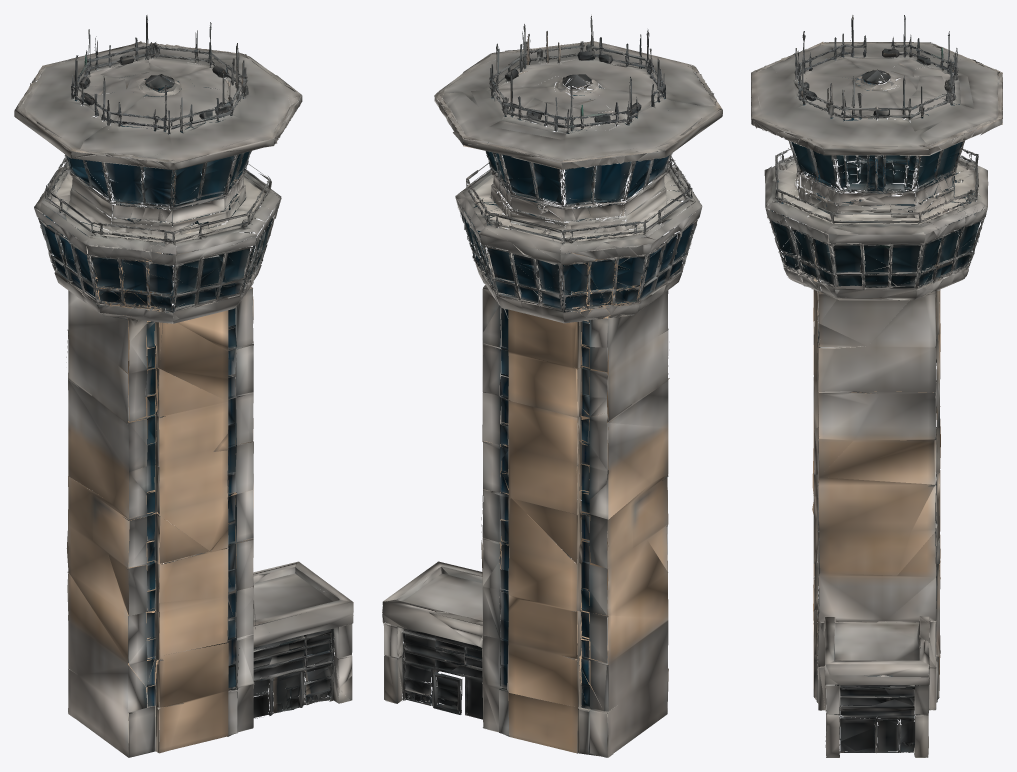
File: tower.glb
3 renders of one model, left to right at view 1: azimuth 30°, elevation 25°; view 2: azimuth 150°, elevation 25°; view 3: azimuth 270°, elevation 25°, orthographic. The views are drawn at different scales.
Parts seen in each view (by area): view 1: LO.001; view 2: LO.001; view 3: LO.001.
Part boxes in pixels (x1=…): LO.001: x1=14, y1=15, x2=353, y2=757; LO.001: x1=382, y1=15, x2=722, y2=757; LO.001: x1=751, y1=15, x2=1002, y2=757.
Size of the model in its own units: 0.8383 by 1.89 by 0.6779.
Materials: 1 (1 with a texture image).
